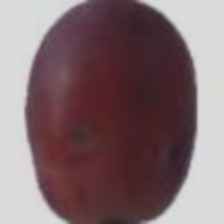grapes: (36, 0, 201, 190)
